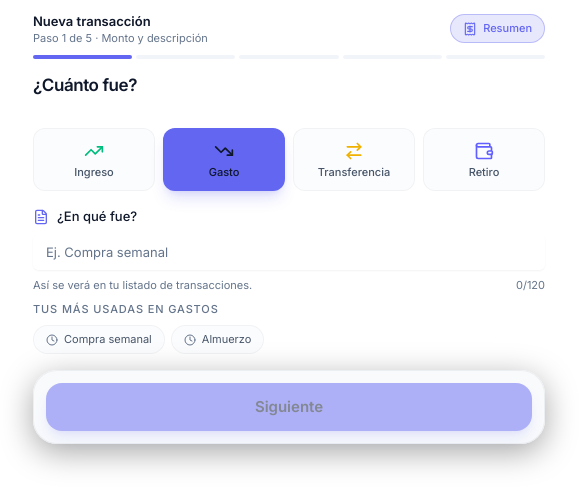
Test: TransactionWizard — capture › switches the suggestions with the type without asking the server again
Expected: the text "Tus más usadas en gastos" is shown, top-left (33, 302), bottom-right (219, 316)
Expected: the button "Almuerzo" is shown, top-left (171, 325), bottom-right (264, 354)
// What you write for an income is not what you write for an expense.
Click the button "Ingreso": [94, 160] box top-left (33, 128), bottom-right (155, 192)
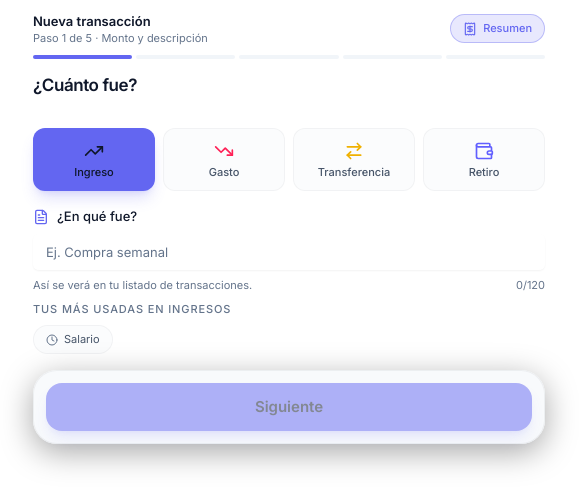
Now the text "Tus más usadas en ingresos" is shown, box top-left (33, 302), bottom-right (231, 316)
Now the button "Salario" is shown, box top-left (33, 325), bottom-right (113, 354)
